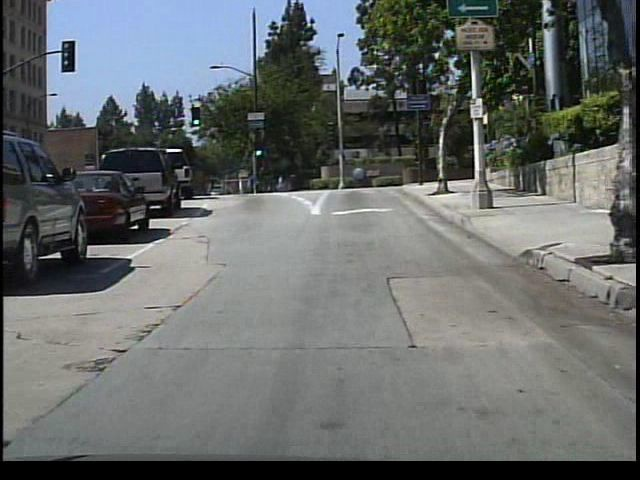person: (242, 168, 259, 196), (272, 169, 288, 195)
